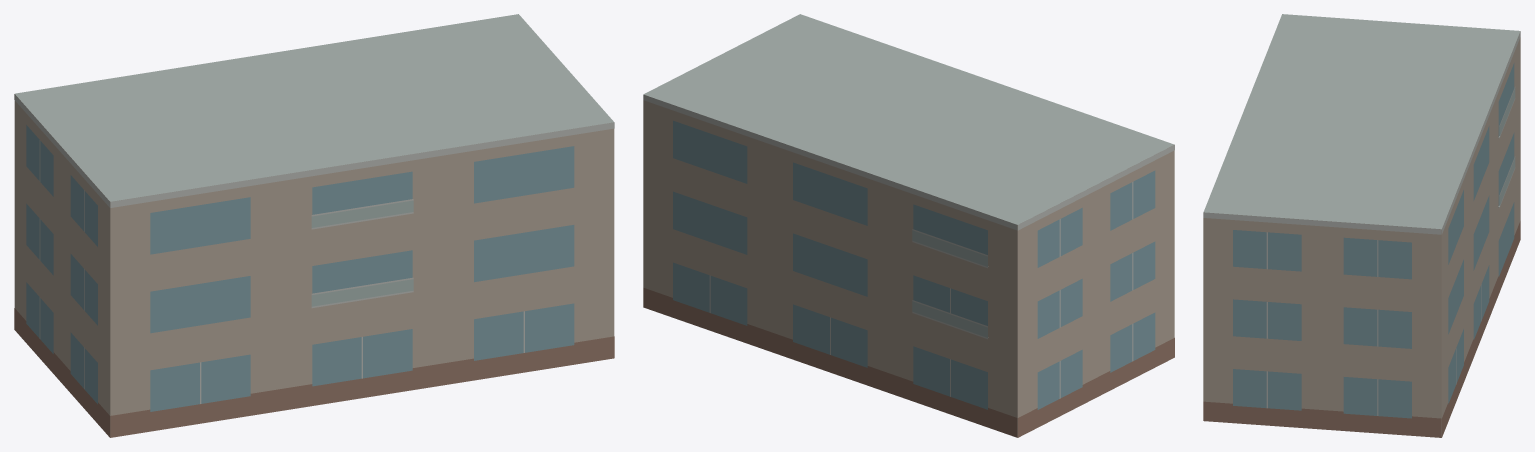
File: residential-34b459ce-eab0-493c-b4ec-b11c1e215a3c.glb
3 renders of one model, left to right at view 1: azimuth 30°, elevation 25°; view 2: azimuth 150°, elevation 25°; view 3: azimuth 270°, elevation 25°, orthographic. The views are drawn at different scales.
Visible parts, largest first — view 1: residential-34b459ce-eab0-493c-b4ec-b11c1e215a3c.tmp; view 2: residential-34b459ce-eab0-493c-b4ec-b11c1e215a3c.tmp; view 3: residential-34b459ce-eab0-493c-b4ec-b11c1e215a3c.tmp.
Part boxes in pixels (bbox=[...]): residential-34b459ce-eab0-493c-b4ec-b11c1e215a3c.tmp: bbox=[14, 14, 614, 437]; residential-34b459ce-eab0-493c-b4ec-b11c1e215a3c.tmp: bbox=[643, 14, 1174, 437]; residential-34b459ce-eab0-493c-b4ec-b11c1e215a3c.tmp: bbox=[1203, 14, 1520, 437].
Bounding box in the file's own units: 20.25 × 9.15 × 12.61.
